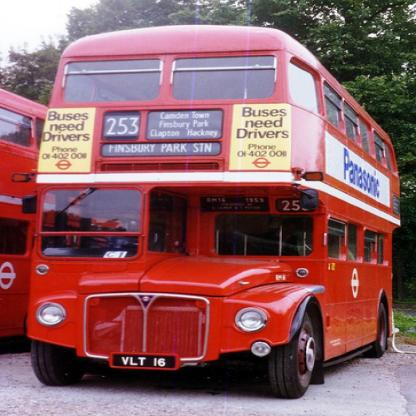bus: (24, 21, 401, 397)
